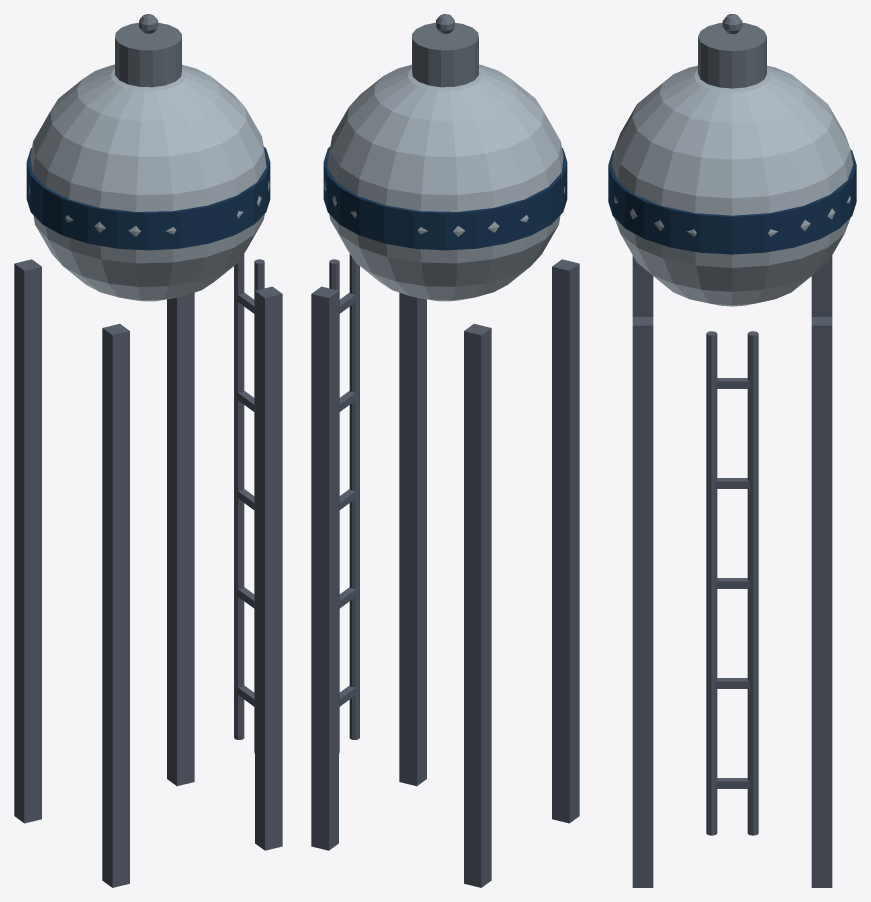
The model's file is water_tower.glb.
3 renders of one model, left to right at view 1: azimuth 30°, elevation 25°; view 2: azimuth 150°, elevation 25°; view 3: azimuth 270°, elevation 25°, orthographic.
Parts seen in each view (by area): view 1: WaterTower; view 2: WaterTower; view 3: WaterTower.
Boxes of the visible parts, x1,y1,x2,y2 form: WaterTower: [14, 14, 282, 887]; WaterTower: [311, 14, 579, 887]; WaterTower: [608, 14, 856, 887].
Size of the model in its own units: 0.36 by 1.33 by 0.36.
